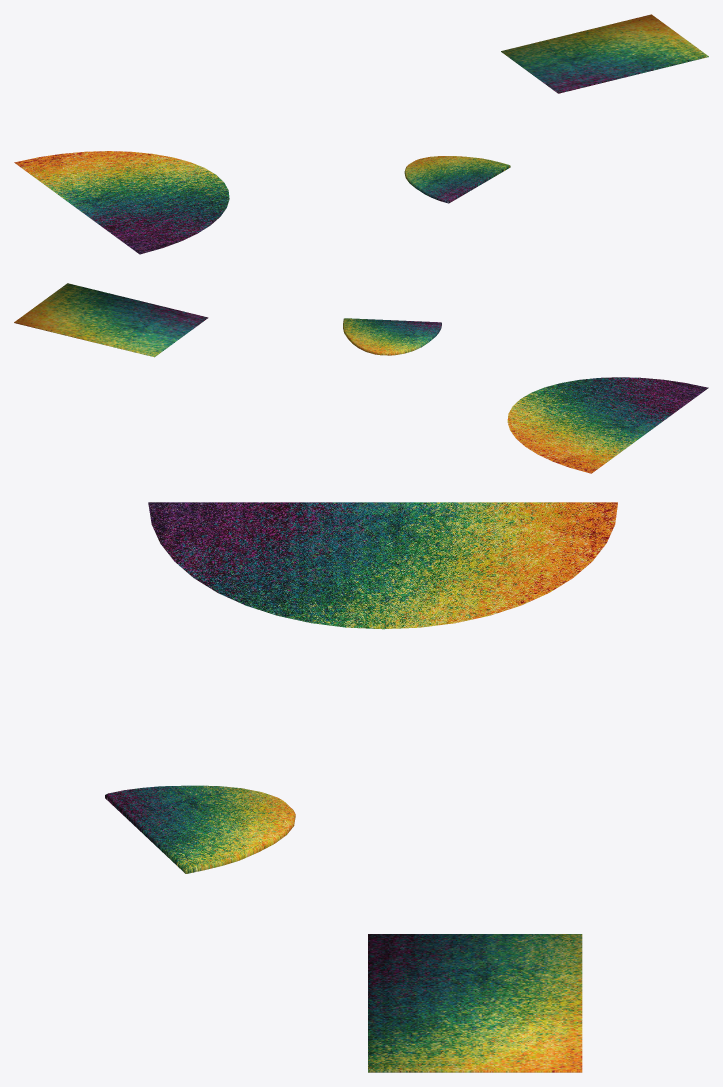
Rendered from carpet.obj.
The picture shows the model from 3 angles, top to bottom: view 1: azimuth 30°, elevation 25°; view 2: azimuth 150°, elevation 25°; view 3: azimuth 270°, elevation 25°; orthographic projection. The views are drawn at different scales.
Visible parts, largest first — view 1: carpets_Combined_Mesh_(root:_scene).001; view 2: carpets_Combined_Mesh_(root:_scene).001; view 3: carpets_Combined_Mesh_(root:_scene).001.
Part boxes in pixels (box(x1,y1,x2,y2)): carpets_Combined_Mesh_(root:_scene).001: box(14, 14, 708, 254); carpets_Combined_Mesh_(root:_scene).001: box(14, 283, 708, 473); carpets_Combined_Mesh_(root:_scene).001: box(105, 502, 617, 1072).
Size of the model in its own units: 42.36 by 0.9689 by 16.05.
1 material, 1 textured.
